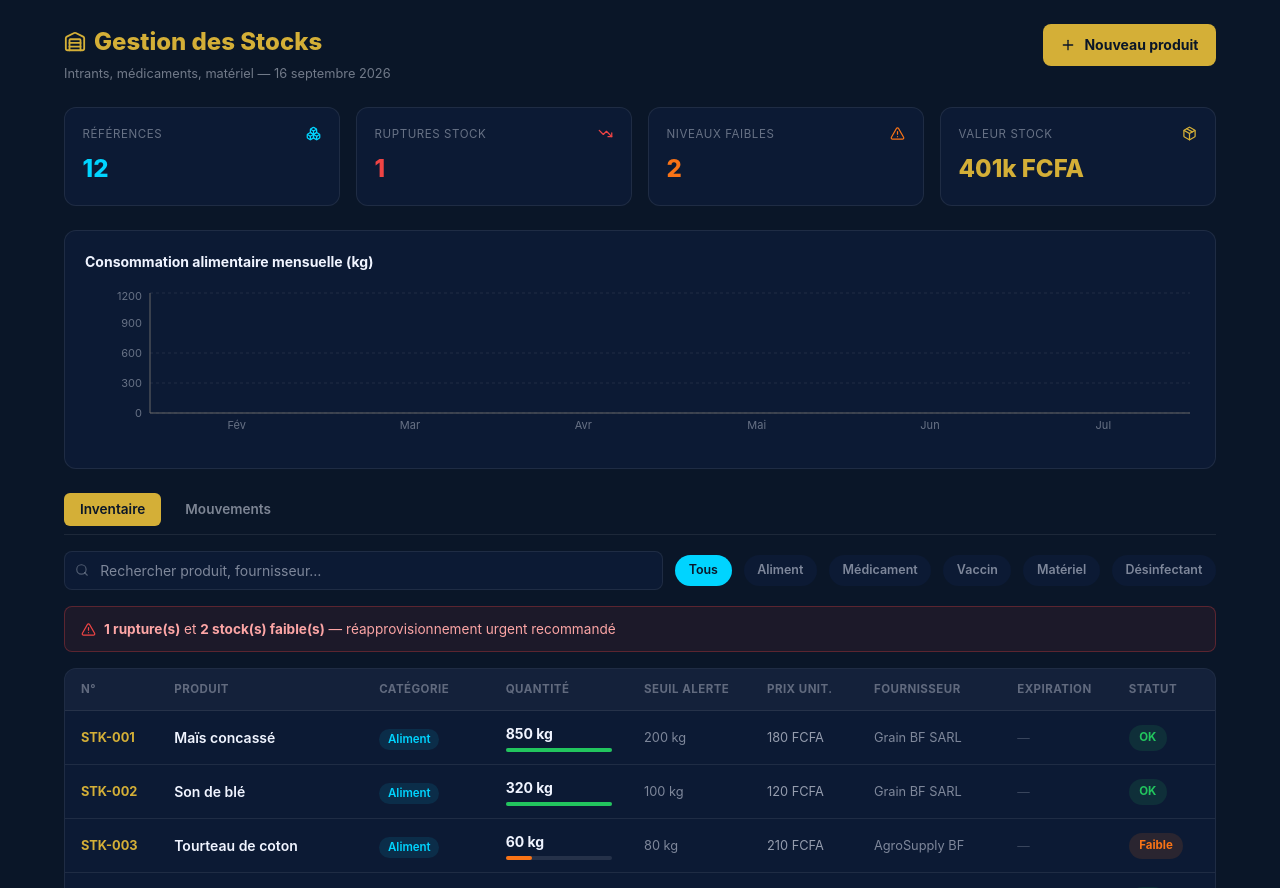
Test: StocksPage › affiche les mouvements de type Sortie
Click the button "Mouvements".
click(228, 509)  # box [169, 493, 287, 526]
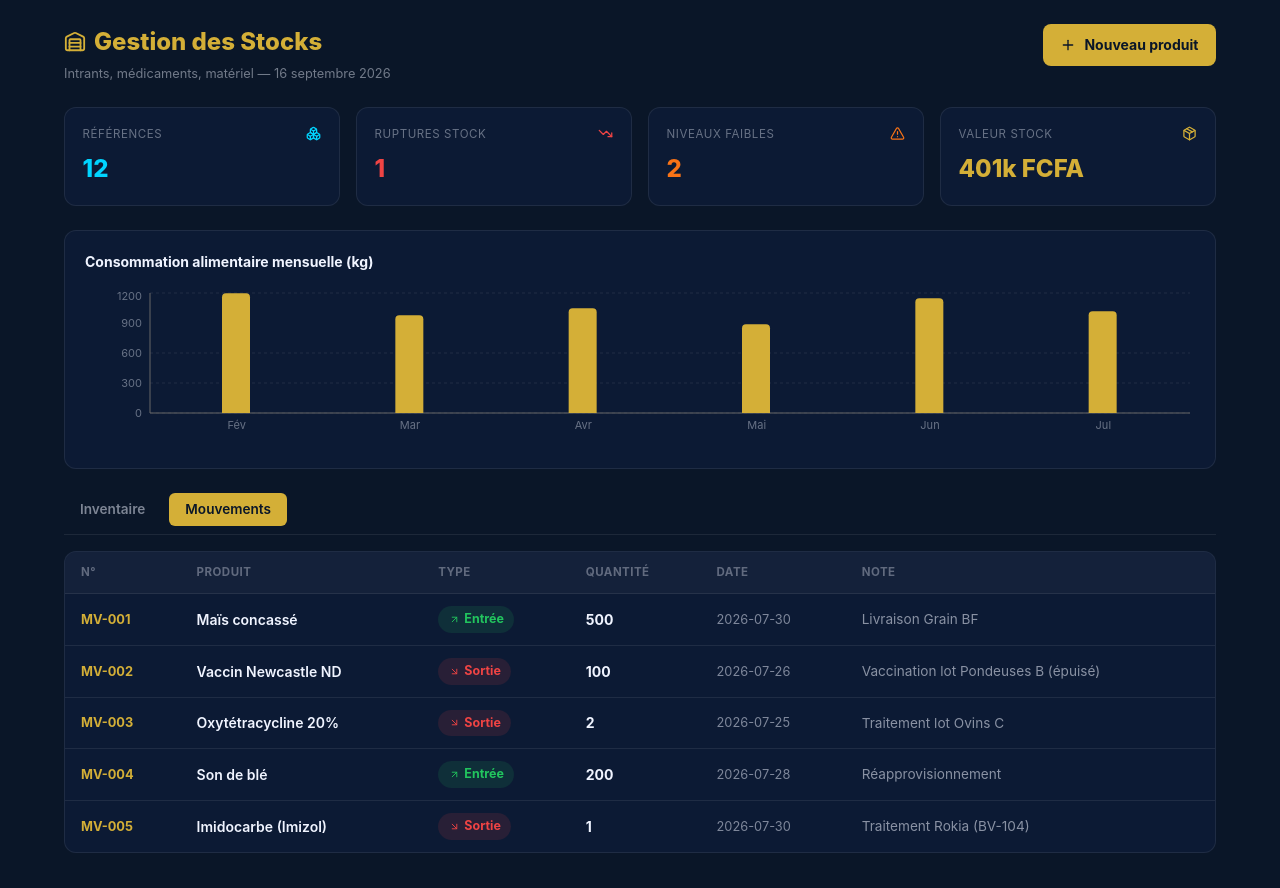
Result: the text "Sortie" in the row of "MV-002" is shown at [464, 663, 501, 678]
